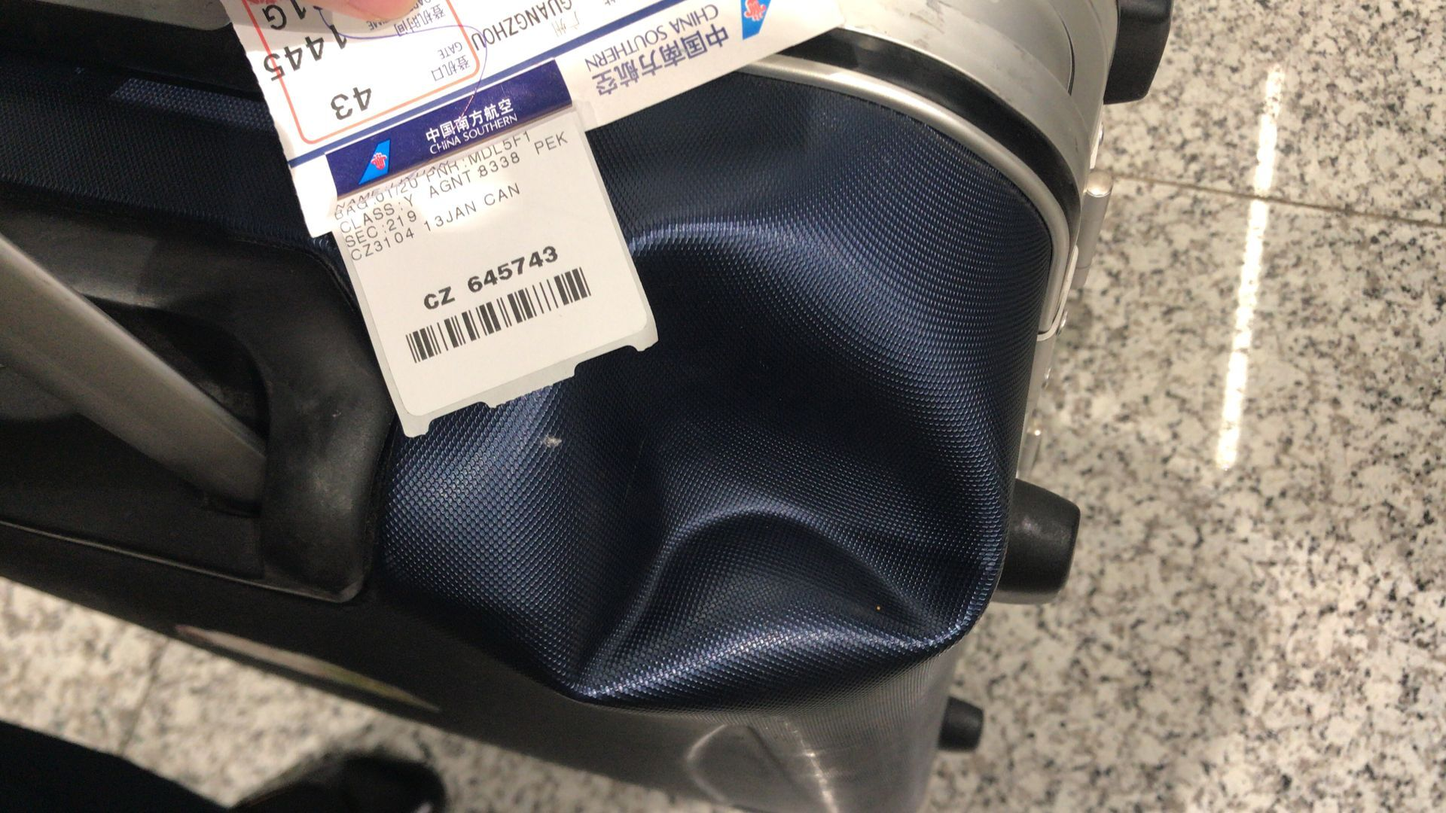hollow: (508, 224, 1010, 704)
